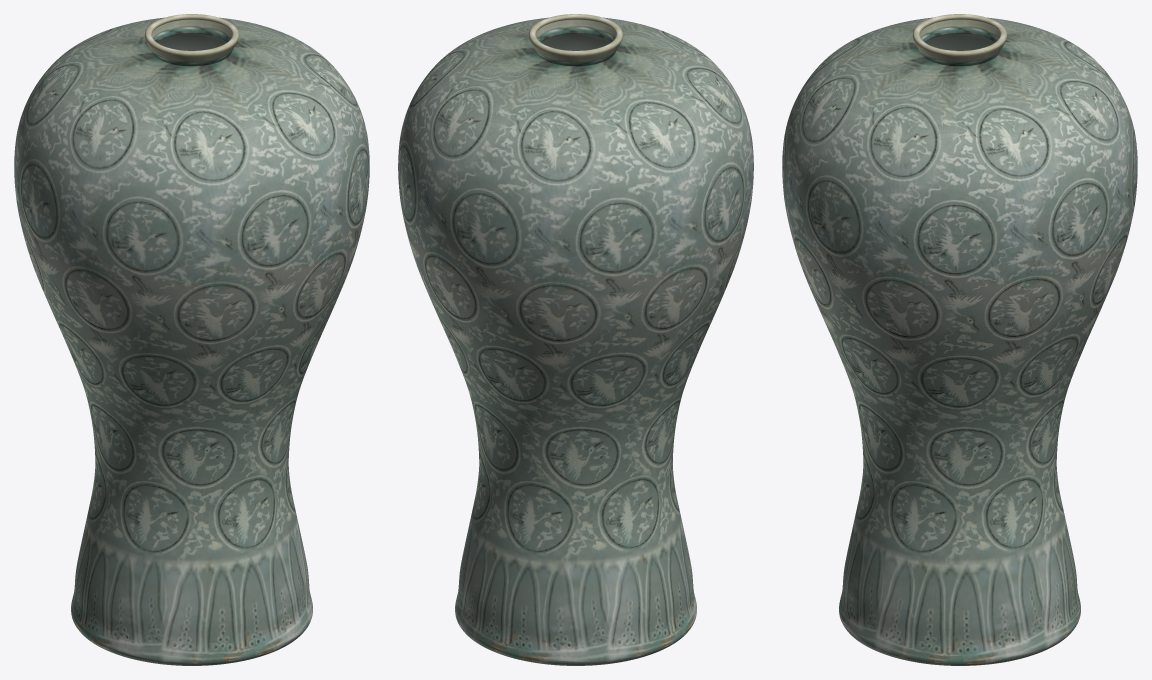
File: beauty.glb
3 views of the same model, side by side, from view 1: azimuth 30°, elevation 25°; view 2: azimuth 150°, elevation 25°; view 3: azimuth 270°, elevation 25° (orthographic).
Visible parts, largest first — view 1: Celadon_PhotoReference_Recreation; view 2: Celadon_PhotoReference_Recreation; view 3: Celadon_PhotoReference_Recreation.
Part boxes in pixels (left/top/right/bottom): Celadon_PhotoReference_Recreation: left=14, top=14, right=369, bottom=665; Celadon_PhotoReference_Recreation: left=398, top=14, right=753, bottom=665; Celadon_PhotoReference_Recreation: left=782, top=14, right=1137, bottom=665.
Size of the model in its own units: 0.2325 by 0.421 by 0.2324.
Materials: 1 (1 with a texture image).
